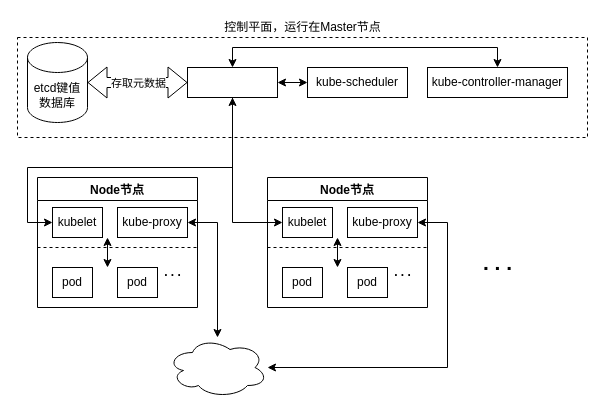
This 605x415 diagram has some shape labels left out. Here are the shapes that lost their labels. From the top down, the centre of each, then its label:
point 232,82: kube-apiserver
point 217,367: internet
